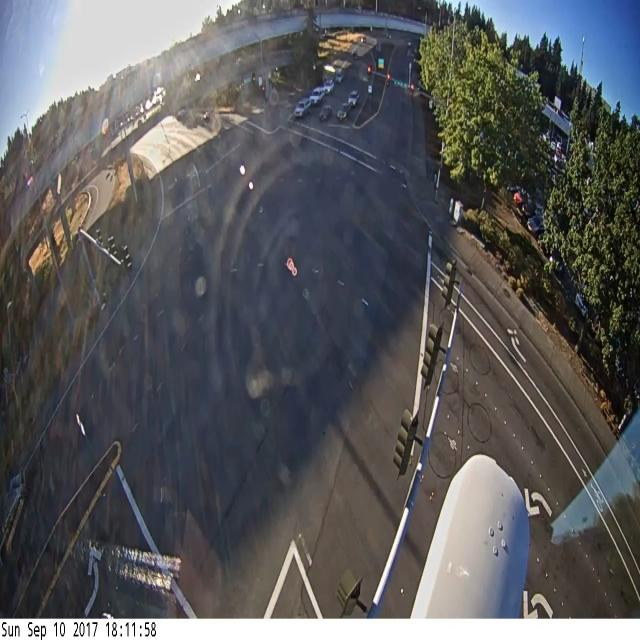car: (527, 215, 544, 239), (294, 99, 311, 118), (575, 293, 587, 318), (309, 88, 324, 105), (337, 103, 351, 121), (319, 105, 332, 121), (323, 78, 335, 94), (348, 91, 359, 106), (335, 68, 345, 84), (177, 107, 186, 119), (202, 112, 209, 121), (352, 49, 358, 59), (361, 36, 366, 42)
